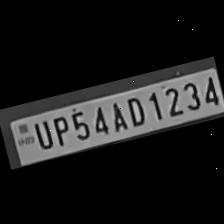1: (140, 88, 164, 122)
2: (158, 82, 184, 119)
3: (177, 76, 201, 112)
4: (86, 100, 110, 136), (196, 72, 221, 106)
5: (64, 105, 92, 142)
A: (103, 96, 128, 132)
D: (120, 91, 148, 128)
P: (48, 110, 72, 146)
U: (28, 115, 54, 151)
